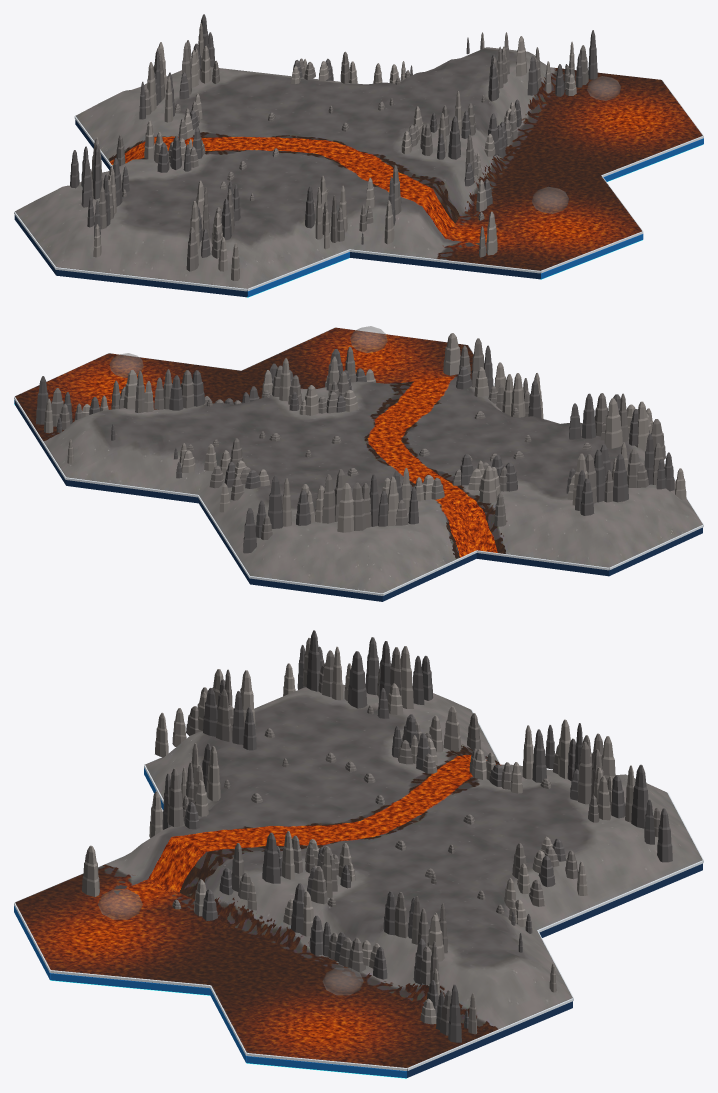
File: field_cm07_01.material-r3.glb
3 renders of one model, top to bottom at view 1: azimuth 30°, elevation 25°; view 2: azimuth 150°, elevation 25°; view 3: azimuth 270°, elevation 25°, orthographic. The views are drawn at different scales.
Visible parts, largest first — view 1: field_cm07_01-surface, crags-el-basalt, crags-el-basalt-light, crags-el-basalt-mid, field_cm07_01-foundation, volcano-smoke-0, volcano-rocks-joined, shallow-blue-fascia.003, shallow-blue-fascia.004, shallow-blue-fascia.001, volcano-smoke-1, flush-porcelain-joint.011 (+1 smaller); view 2: field_cm07_01-surface, crags-el-basalt-light, crags-el-basalt, crags-el-basalt-mid, field_cm07_01-foundation, volcano-rocks-joined, volcano-smoke-0, volcano-smoke-1; view 3: field_cm07_01-surface, crags-el-basalt, crags-el-basalt-light, crags-el-basalt-mid, field_cm07_01-foundation, volcano-rocks-joined, shallow-blue-fascia, shallow-blue-fascia.002, volcano-smoke-0, volcano-smoke-1.
Boxes of the visible parts, x1=… form: field_cm07_01-surface: x1=15, y1=47, x2=702, y2=288; crags-el-basalt: x1=70, y1=14, x2=597, y2=257; crags-el-basalt-light: x1=91, y1=23, x2=576, y2=280; crags-el-basalt-mid: x1=90, y1=32, x2=588, y2=271; field_cm07_01-foundation: x1=14, y1=119, x2=540, y2=297; volcano-smoke-0: x1=532, y1=187, x2=568, y2=213; volcano-rocks-joined: x1=122, y1=70, x2=485, y2=220; shallow-blue-fascia.003: x1=540, y1=234, x2=642, y2=279; shallow-blue-fascia.004: x1=247, y1=252, x2=349, y2=297; shallow-blue-fascia.001: x1=603, y1=138, x2=703, y2=181; volcano-smoke-1: x1=587, y1=76, x2=620, y2=100; flush-porcelain-joint.011: x1=349, y1=249, x2=540, y2=273; field_cm07_01-surface: x1=15, y1=327, x2=702, y2=593; crags-el-basalt-light: x1=44, y1=333, x2=686, y2=532; crags-el-basalt: x1=36, y1=345, x2=674, y2=553; crags-el-basalt-mid: x1=51, y1=338, x2=665, y2=540; field_cm07_01-foundation: x1=15, y1=401, x2=702, y2=601; volcano-rocks-joined: x1=187, y1=390, x2=591, y2=476; volcano-smoke-0: x1=350, y1=326, x2=387, y2=352; volcano-smoke-1: x1=109, y1=353, x2=143, y2=377; field_cm07_01-surface: x1=15, y1=684, x2=702, y2=1067; crags-el-basalt: x1=162, y1=630, x2=672, y2=1042; crags-el-basalt-light: x1=82, y1=646, x2=634, y2=1034; crags-el-basalt-mid: x1=85, y1=638, x2=660, y2=1035; field_cm07_01-foundation: x1=53, y1=863, x2=702, y2=1077; volcano-rocks-joined: x1=172, y1=705, x2=551, y2=913; shallow-blue-fascia: x1=246, y1=1056, x2=406, y2=1078; shallow-blue-fascia.002: x1=50, y1=973, x2=210, y2=995; volcano-smoke-0: x1=98, y1=889, x2=142, y2=919; volcano-smoke-1: x1=322, y1=967, x2=363, y2=995.
Bounding box in the file's own units: 19.17 × 2.53 × 14.93.
9 materials, 1 textured.
